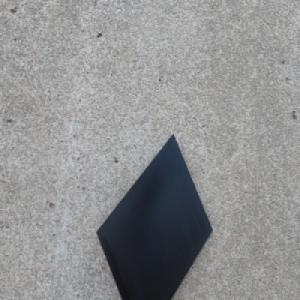PlasticPart: (95, 131, 213, 300)
